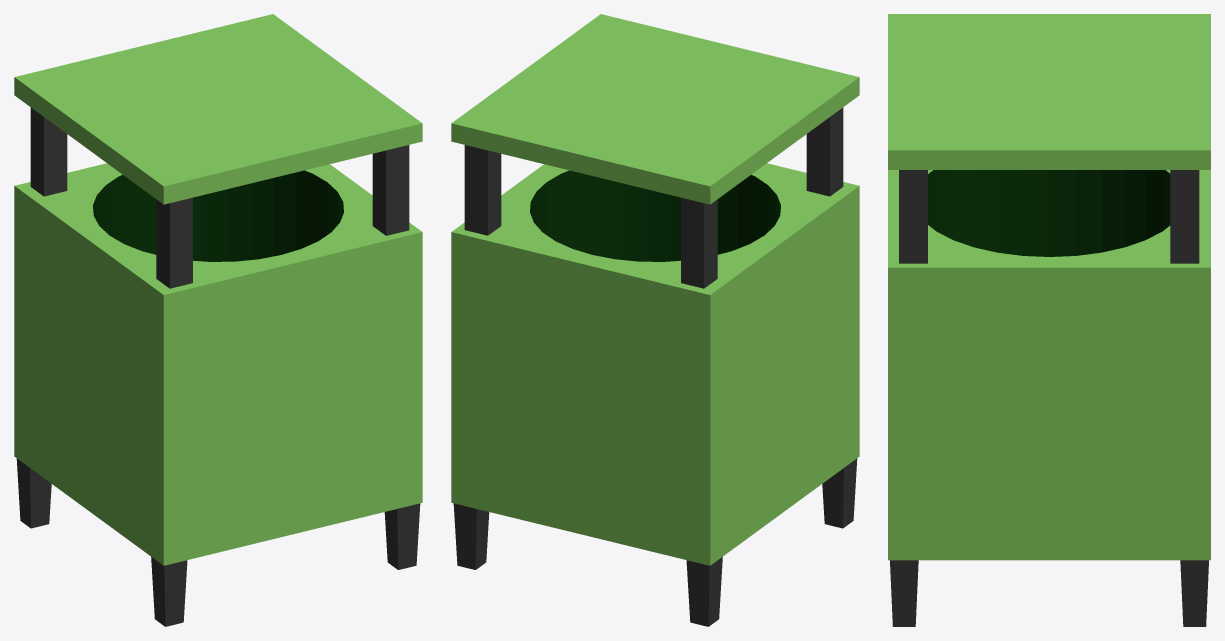
The model's file is RecycleBin.fbx.
3 views of the same model, side by side, from view 1: azimuth 30°, elevation 25°; view 2: azimuth 150°, elevation 25°; view 3: azimuth 270°, elevation 25° (orthographic). The views are drawn at different scales.
Parts seen in each view (by area): view 1: Cylinder.001; view 2: Cylinder.001; view 3: Cylinder.001.
Boxes of the visible parts, bbox=[...] form: Cylinder.001: bbox=[14, 14, 422, 626]; Cylinder.001: bbox=[451, 14, 859, 626]; Cylinder.001: bbox=[888, 14, 1210, 626].
Bounding box in the file's own units: 200 × 327 × 200.
